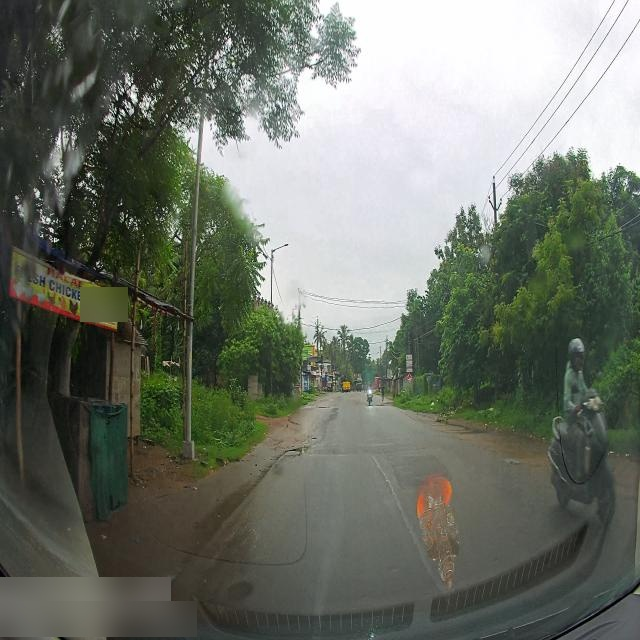pothole: (271, 433, 315, 459)
